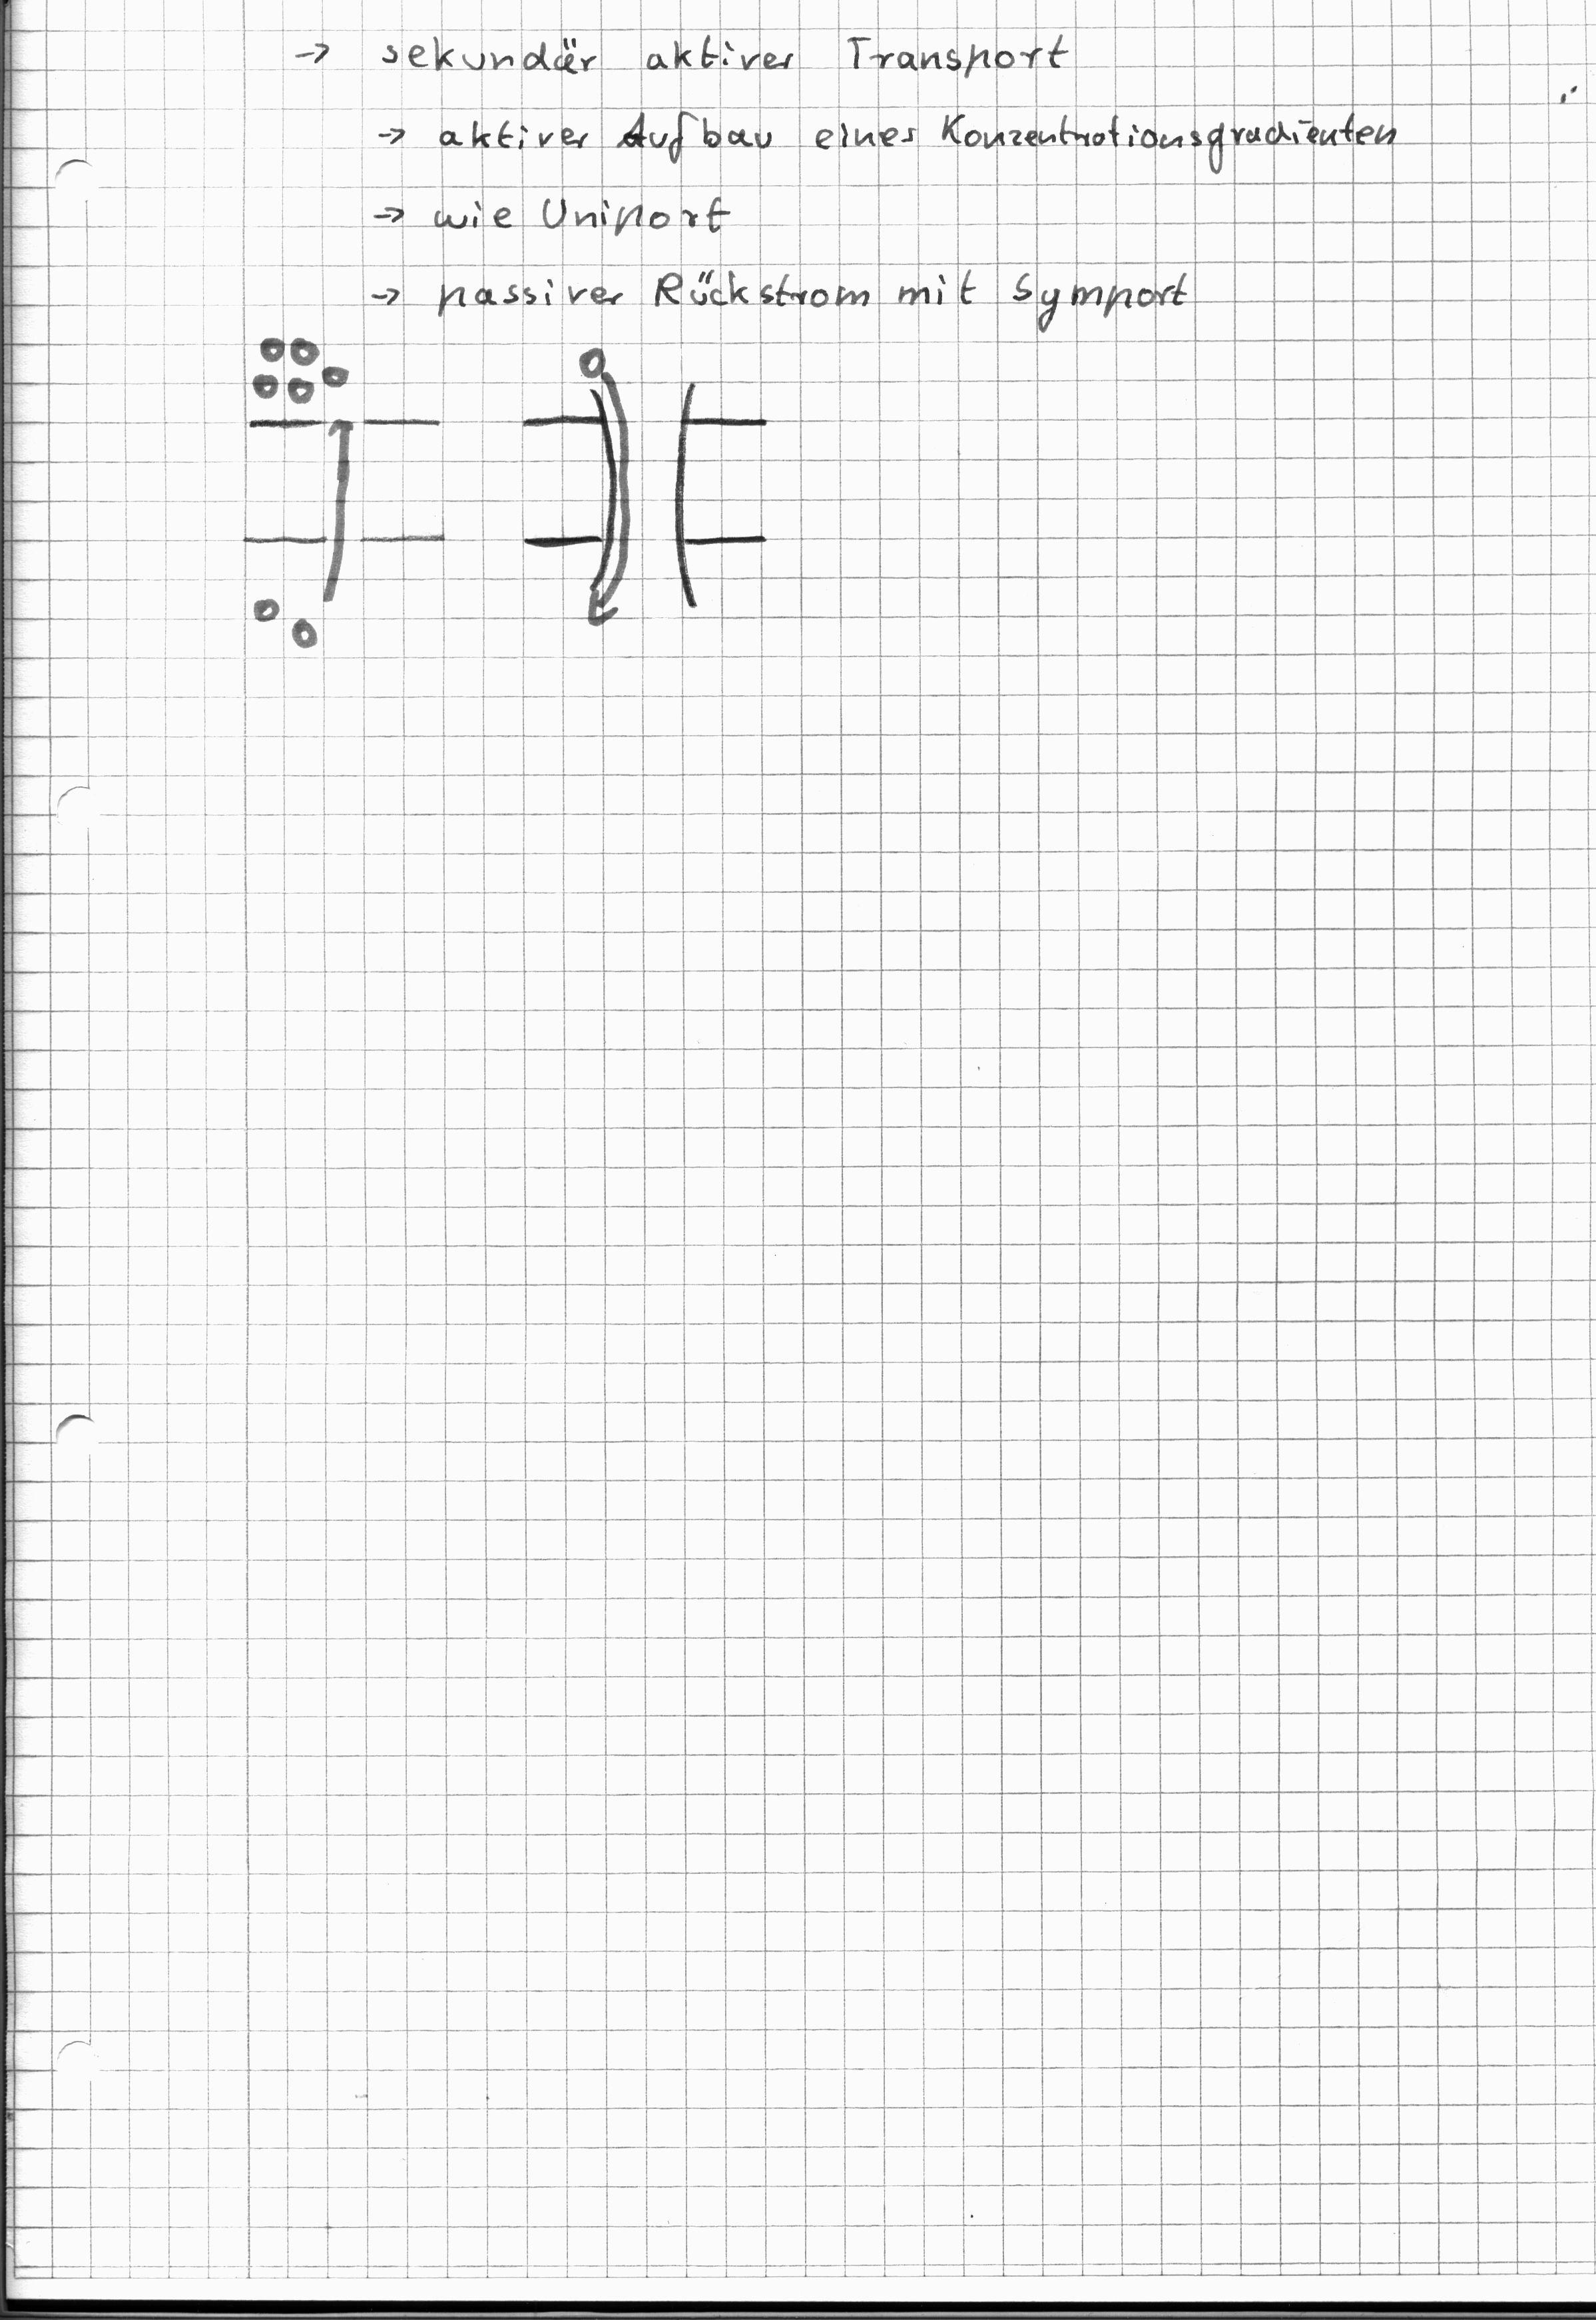word: (362, 93, 1414, 344), (283, 12, 1087, 89)
